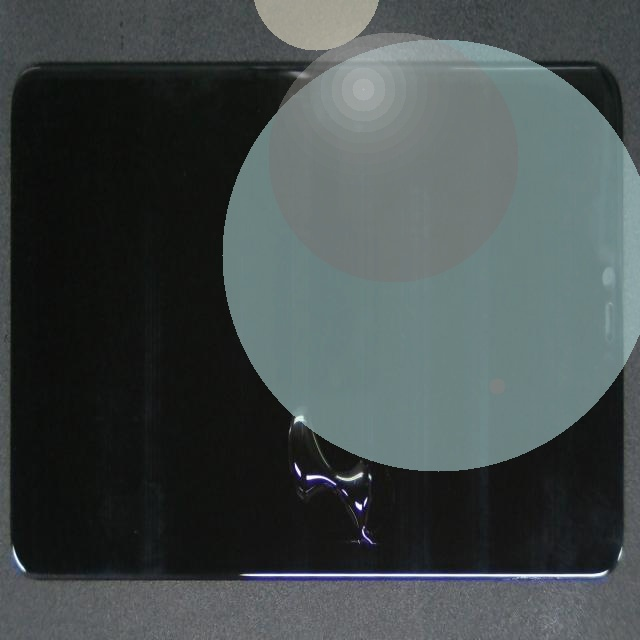oil: (154, 230, 508, 640)
